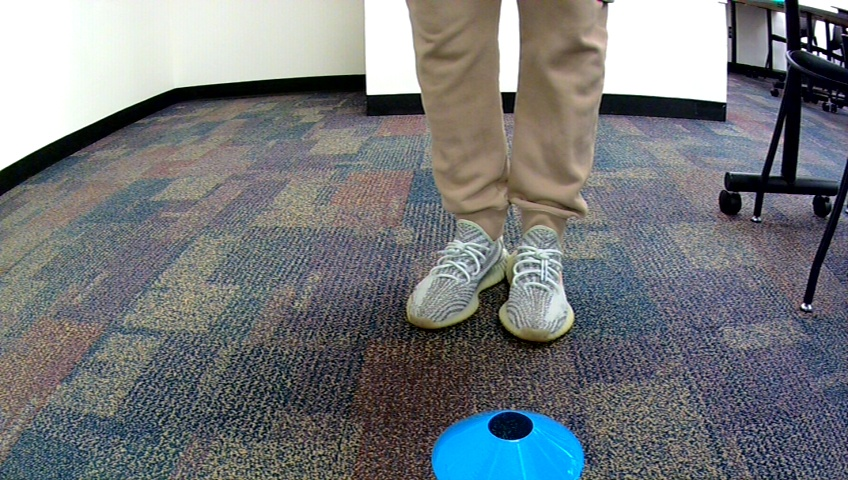cone: (431, 408, 586, 480)
